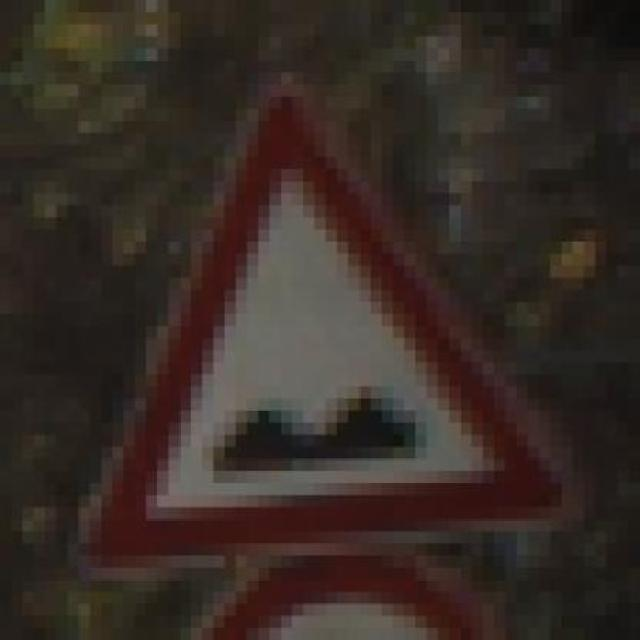Uneven Road: (67, 48, 584, 568)
